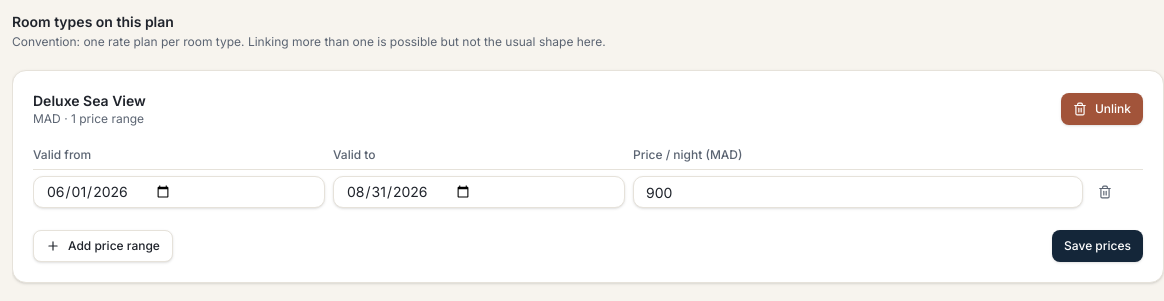
Test: RatePlanPricingPanel — price rows (RatePlanLinkCard) › removes a row via its trash button, restoring the empty state
Click the button named "Remove range" at [1104, 192], box [1090,178,1118,206]
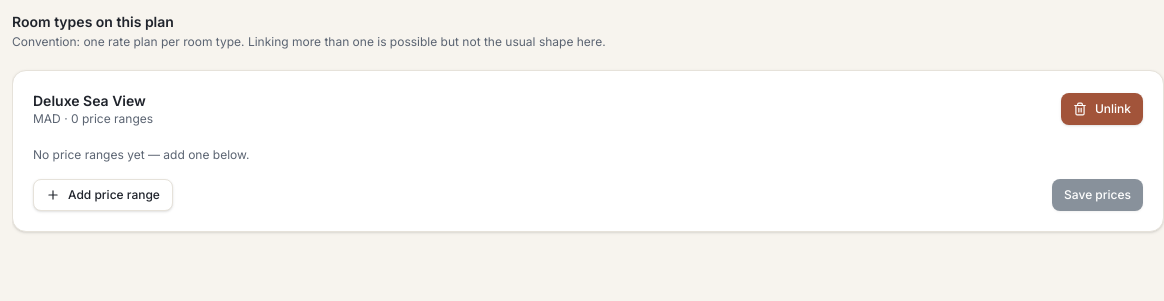
Now the text "No price ranges yet — add one below." is shown, box [33,147,249,162]
